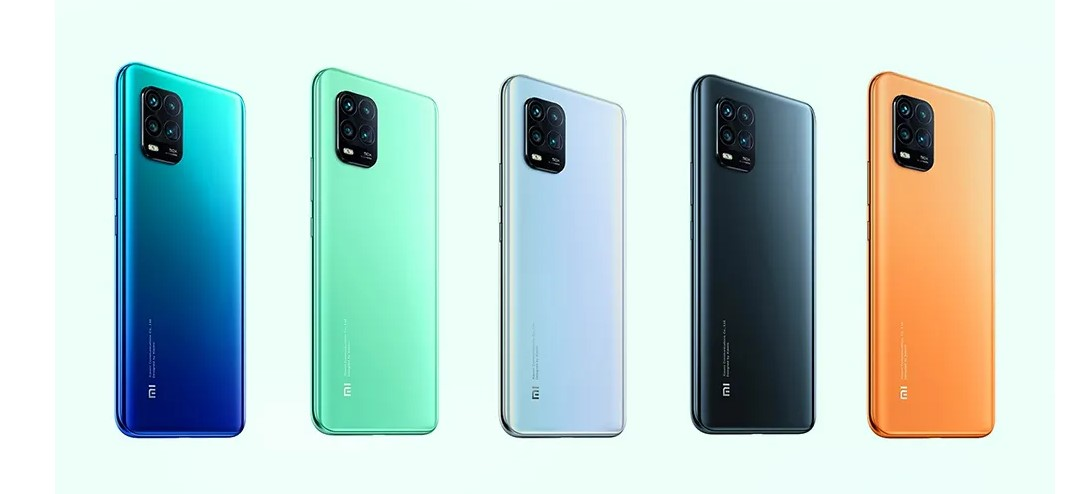phone: (115, 61, 247, 439), (866, 71, 997, 439), (310, 68, 439, 436), (499, 75, 626, 440), (689, 74, 817, 436)
